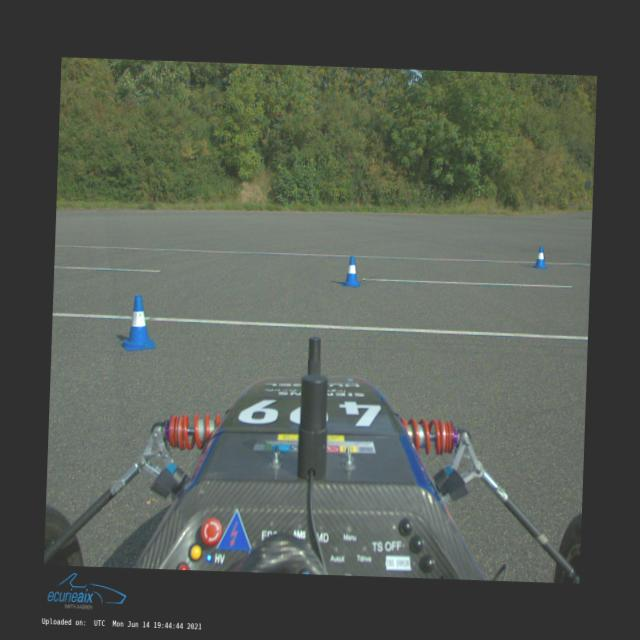blue_cone: (120, 294, 158, 351), (340, 256, 361, 286), (532, 246, 548, 268)
